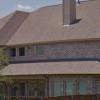Chimney: (56, 0, 84, 36)
